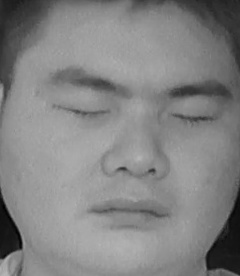blink: (47, 89, 110, 129), (171, 101, 215, 135)
mouth: (88, 188, 170, 234)
